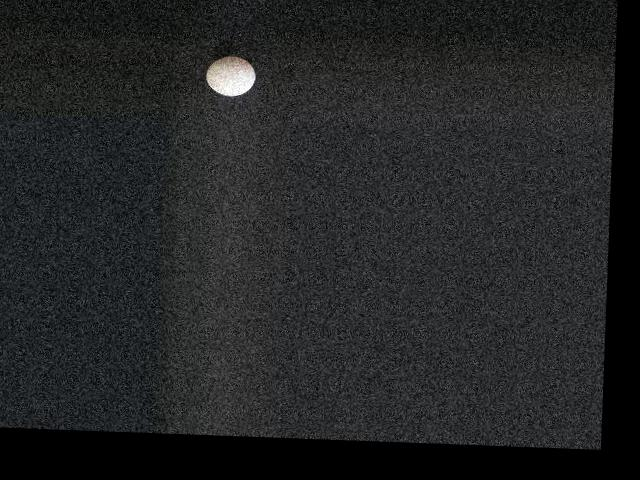egg: (204, 55, 254, 96)
